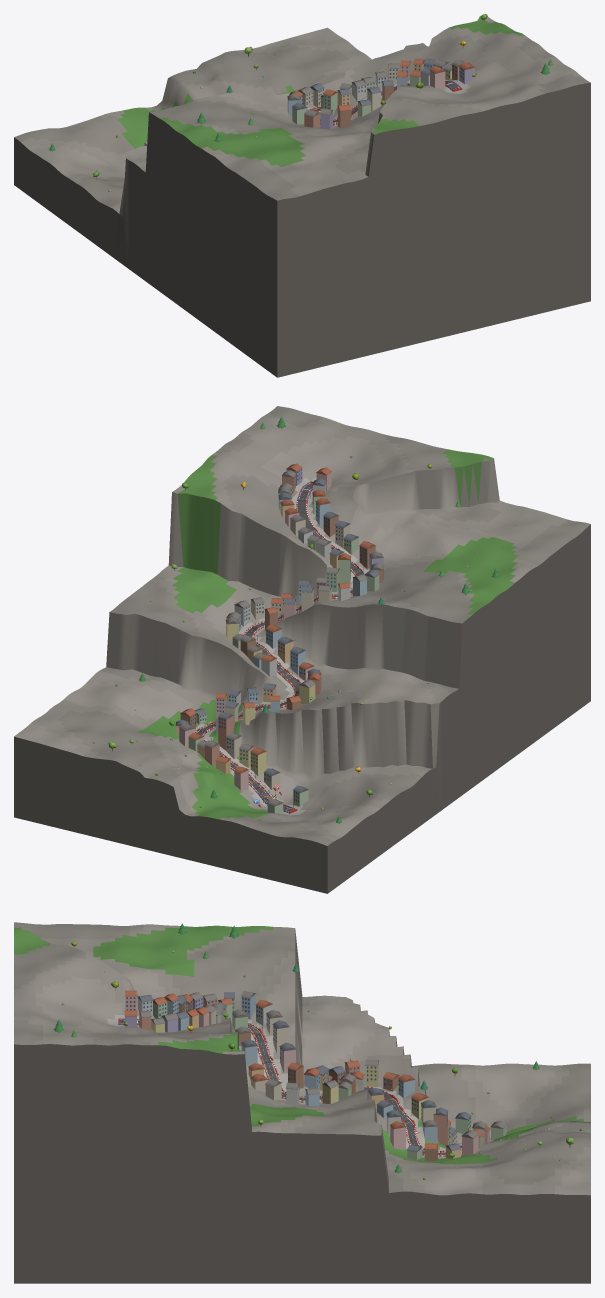
3 renders of one model, top to bottom at view 1: azimuth 30°, elevation 25°; view 2: azimuth 150°, elevation 25°; view 3: azimuth 270°, elevation 25°, orthographic. The views are drawn at different scales.
Parts seen in each view (by area): view 1: grass, buildings; view 2: grass, buildings, road, hay; view 3: grass, buildings, road, hay.
Boxes of the visible parts, x1=… form: grass: x1=14, y1=15, x2=590, y2=377; buildings: x1=287, y1=58, x2=474, y2=129; grass: x1=14, y1=406, x2=590, y2=893; buildings: x1=175, y1=463, x2=384, y2=813; road: x1=196, y1=483, x2=363, y2=811; hay: x1=195, y1=481, x2=364, y2=813; grass: x1=14, y1=922, x2=590, y2=1283; buildings: x1=124, y1=990, x2=507, y2=1161; road: x1=119, y1=1020, x2=461, y2=1155; hay: x1=118, y1=1018, x2=461, y2=1156.
Size of the model in its own units: 275 by 192 by 400.
